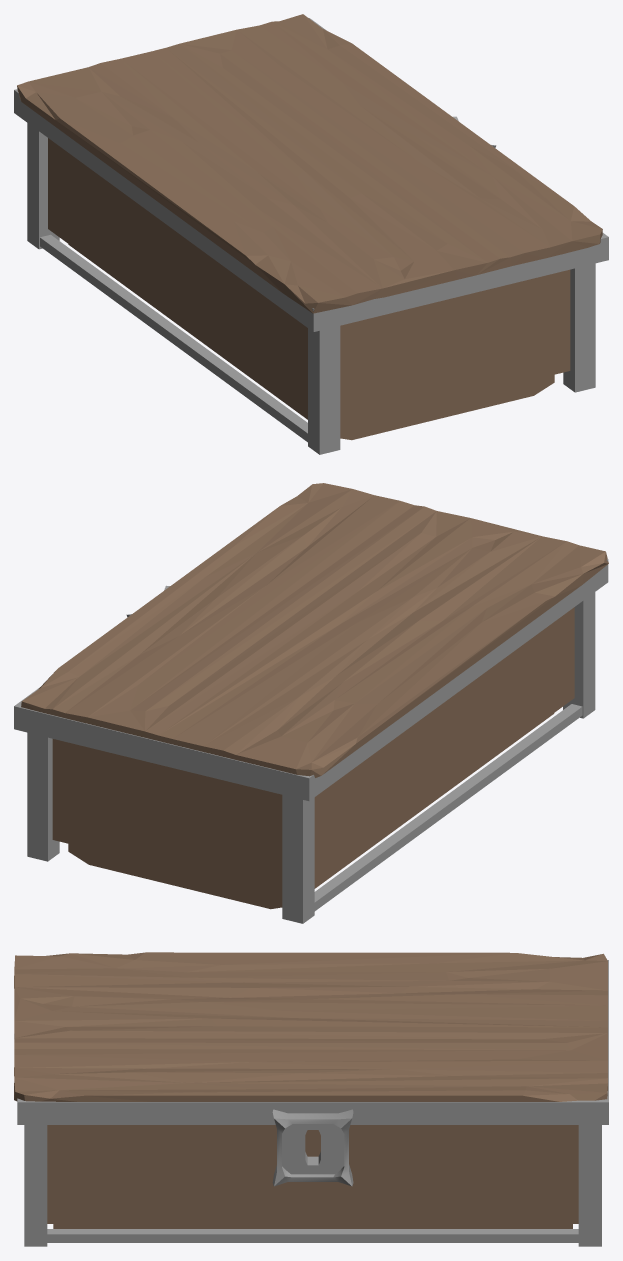
File: SM_chest.fbx
3 views of the same model, one above another, from view 1: azimuth 30°, elevation 25°; view 2: azimuth 150°, elevation 25°; view 3: azimuth 270°, elevation 25° (orthographic).
Visible parts, largest first — view 1: chest; view 2: chest; view 3: chest.
Part boxes in pixels (x1=…): chest: x1=14, y1=14, x2=608, y2=454; chest: x1=14, y1=483, x2=608, y2=923; chest: x1=14, y1=952, x2=608, y2=1246.
Bounding box in the file's own units: 94.93 × 47.5 × 157.
